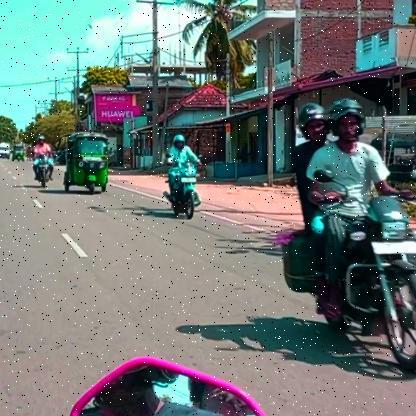motorcycle: (320, 195, 416, 378), (162, 162, 204, 223)
